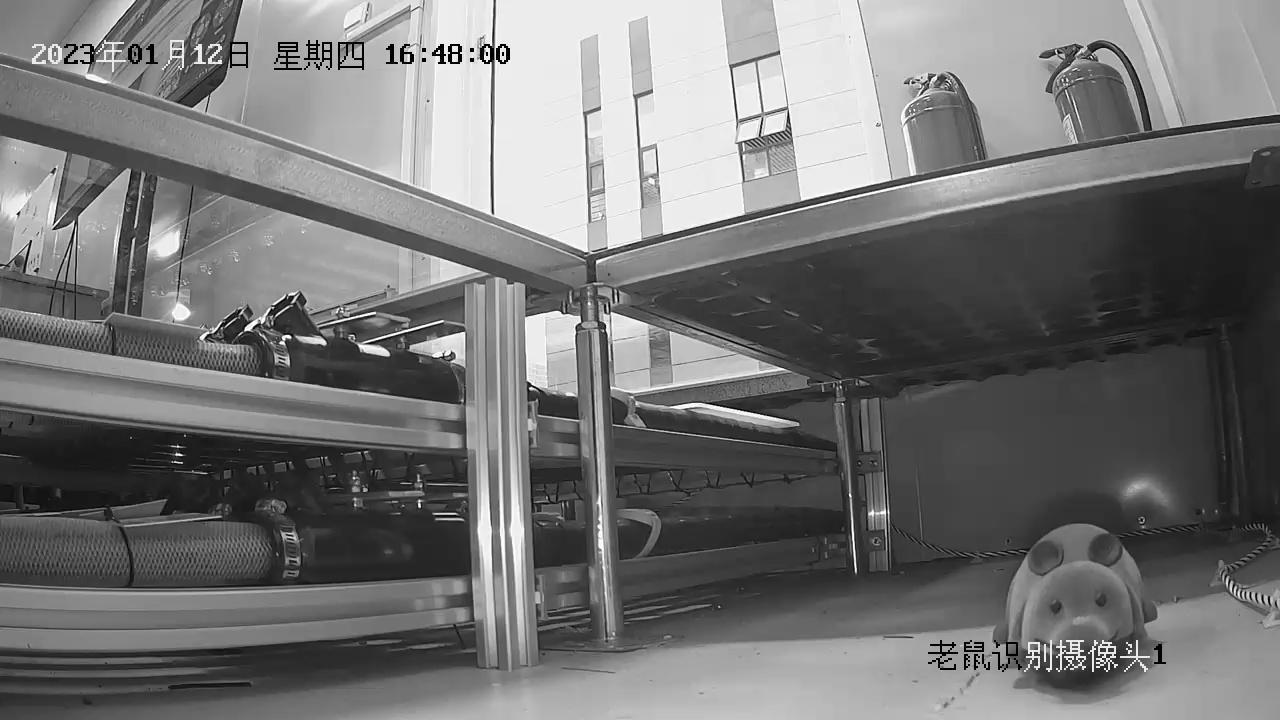rat: (994, 524, 1162, 687)
